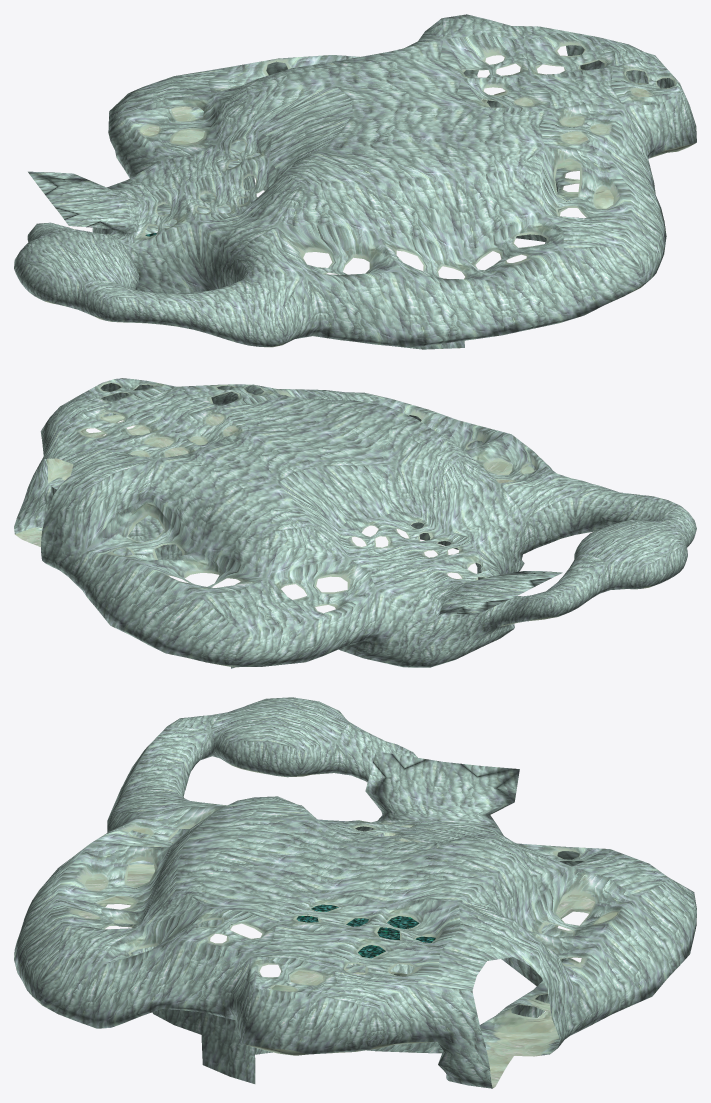
File: TROLLHOLE02_PS-SECRETCAVE.fbx
The picture shows the model from 3 angles, top to bottom: view 1: azimuth 30°, elevation 25°; view 2: azimuth 150°, elevation 25°; view 3: azimuth 270°, elevation 25°; orthographic projection. The views are drawn at different scales.
Parts seen in each view (by area): view 1: TROLLHOLE02_PS-SECRETCAVE; view 2: TROLLHOLE02_PS-SECRETCAVE; view 3: TROLLHOLE02_PS-SECRETCAVE.
Part boxes in pixels (x1,y1,x2,y2): TROLLHOLE02_PS-SECRETCAVE: (14,14,696,349); TROLLHOLE02_PS-SECRETCAVE: (14,378,696,668); TROLLHOLE02_PS-SECRETCAVE: (14,697,696,1088).
Size of the model in its own units: 848568 by 200575 by 718881.
Materials: 14 (14 with a texture image).
